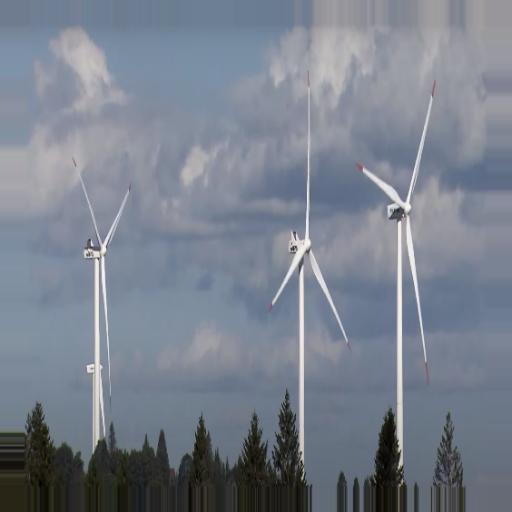wind turbine: (269, 69, 354, 495), (354, 81, 436, 477), (70, 153, 131, 457)
